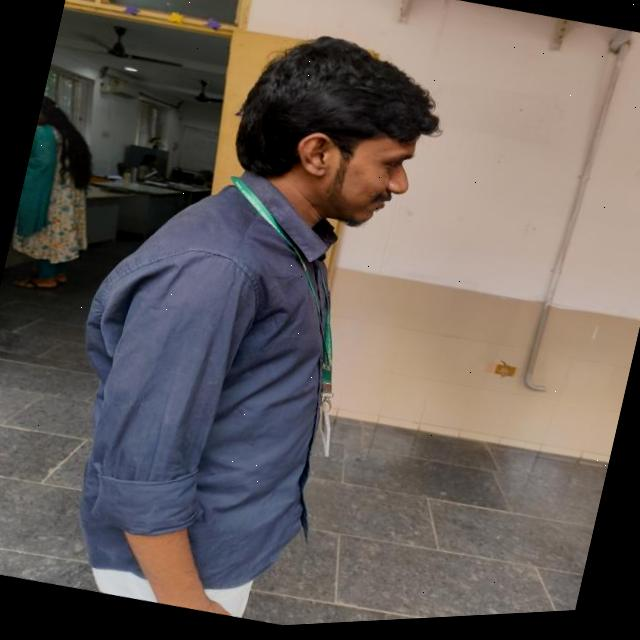id_card: (168, 164, 398, 476)
